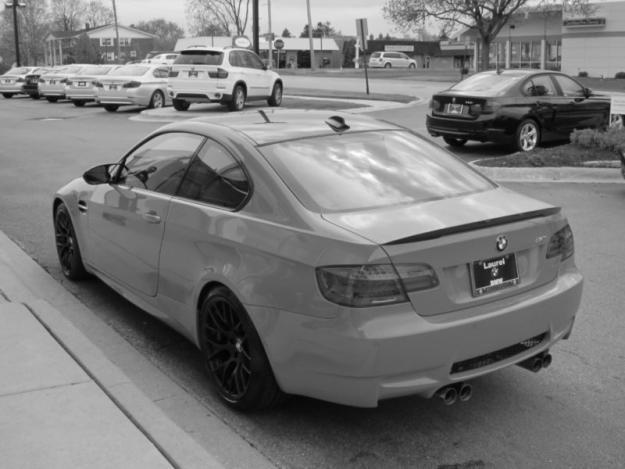car: (49, 107, 584, 418)
